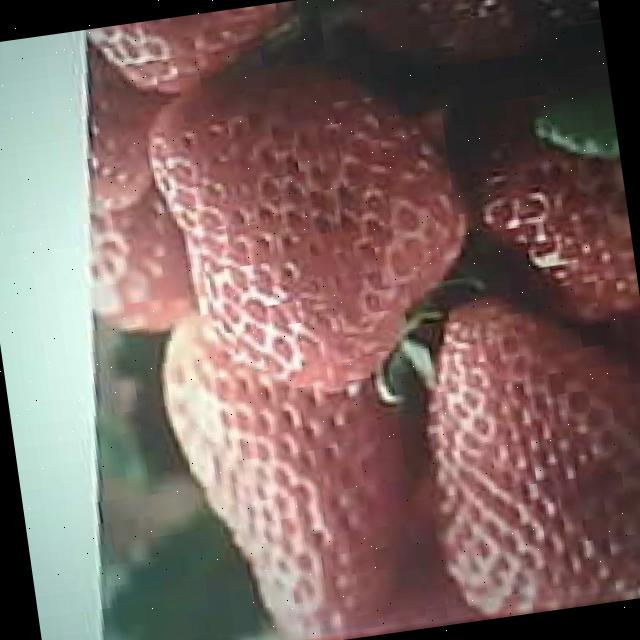strawberry: (144, 57, 482, 408), (407, 278, 640, 624)
